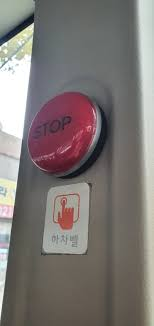bell: (25, 89, 109, 182)
